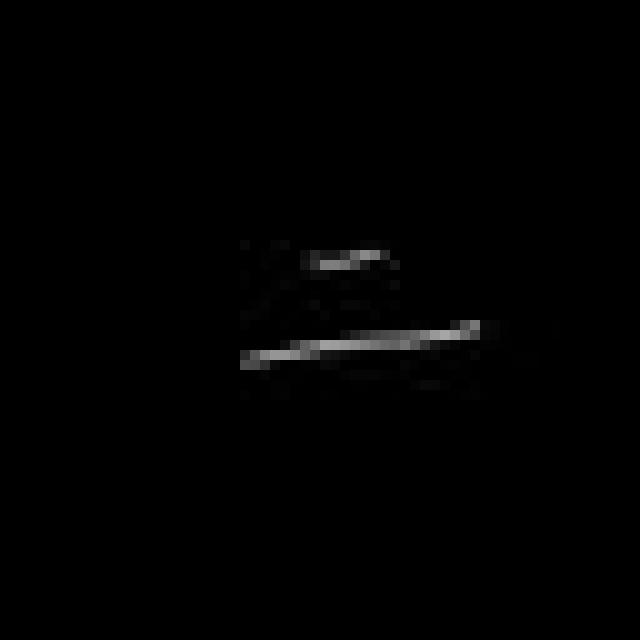2 -two-: (223, 228, 500, 380)
